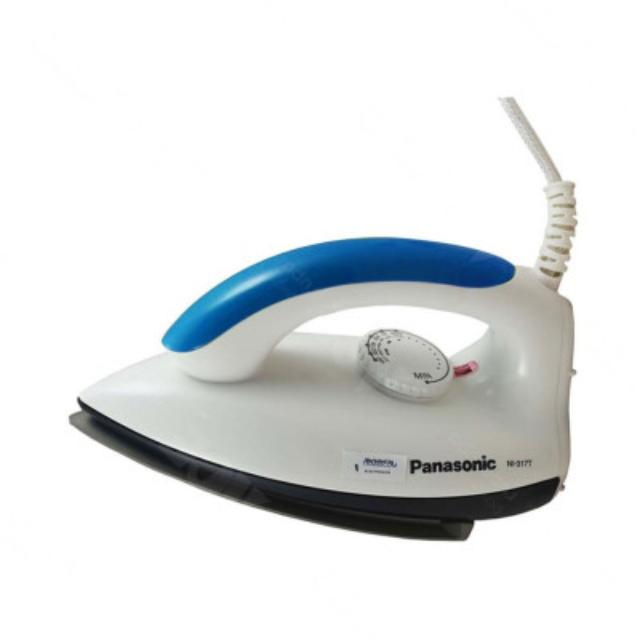Clothes-Iron: (74, 122, 428, 452)
